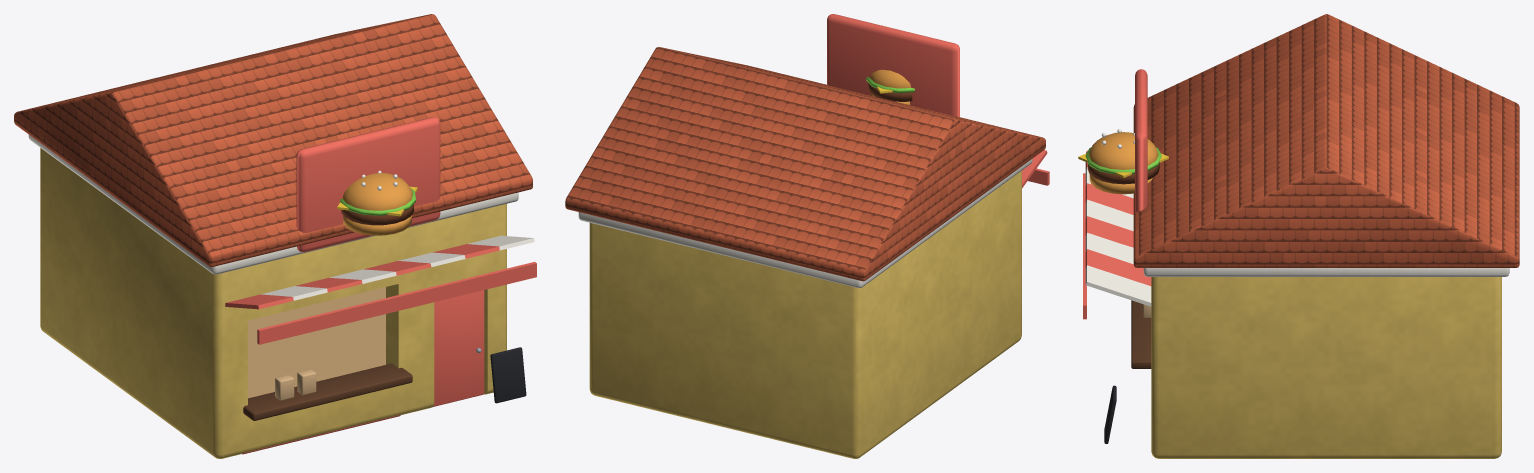
Rendered from restaurant_burger.gltf.
The picture shows the model from 3 angles, left to right: view 1: azimuth 30°, elevation 25°; view 2: azimuth 150°, elevation 25°; view 3: azimuth 270°, elevation 25°; orthographic projection. The views are drawn at different scales.
Parts seen in each view (by area): view 1: restaurant_burger_mesh, INT_door_restaurant_burger, INT_counter_burger; view 2: restaurant_burger_mesh; view 3: restaurant_burger_mesh, INT_counter_burger.
Part boxes in pixels (x1,y1,x2,y2): restaurant_burger_mesh: [14, 14, 536, 458]; INT_door_restaurant_burger: [433, 290, 484, 406]; INT_counter_burger: [243, 363, 412, 420]; restaurant_burger_mesh: [565, 14, 1049, 458]; restaurant_burger_mesh: [1078, 14, 1519, 458]; INT_counter_burger: [1131, 300, 1151, 368].
Size of what is drawn, in the model's own units: 7.3 by 6.64 by 8.81.
Materials: 16 (2 with a texture image).
